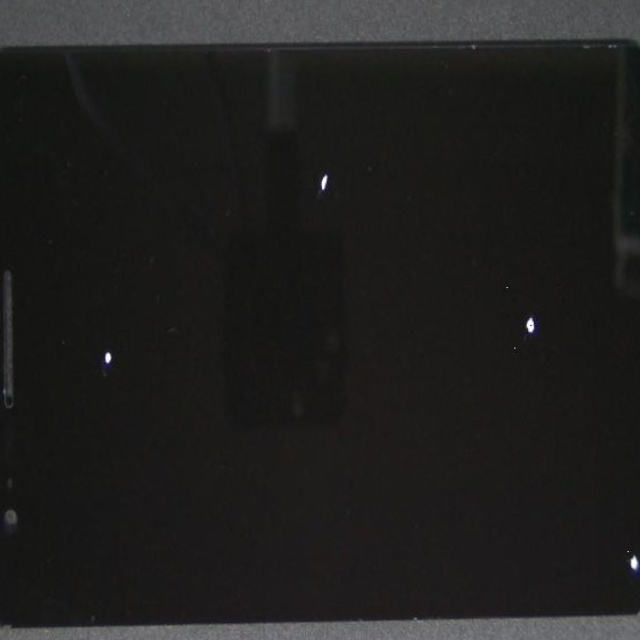stain: (257, 77, 640, 477), (307, 222, 640, 640), (109, 48, 494, 349), (51, 118, 196, 514)
